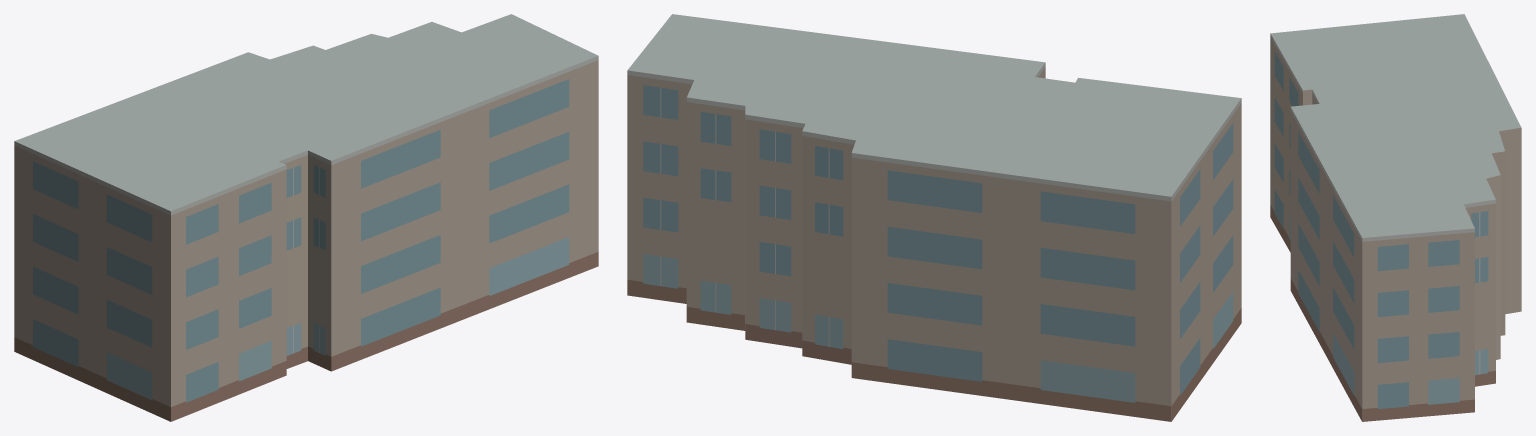
File: survey-upis-32788042.glb
3 renders of one model, left to right at view 1: azimuth 30°, elevation 25°; view 2: azimuth 150°, elevation 25°; view 3: azimuth 270°, elevation 25°, orthographic. The views are drawn at different scales.
Visible parts, largest first — view 1: survey-upis-32788042.tmp; view 2: survey-upis-32788042.tmp; view 3: survey-upis-32788042.tmp.
Boxes of the visible parts, x1=… form: survey-upis-32788042.tmp: x1=14, y1=14, x2=598, y2=421; survey-upis-32788042.tmp: x1=627, y1=14, x2=1241, y2=421; survey-upis-32788042.tmp: x1=1270, y1=14, x2=1521, y2=421.
Bounding box in the file's own units: 31.1 × 11.9 × 14.74.
